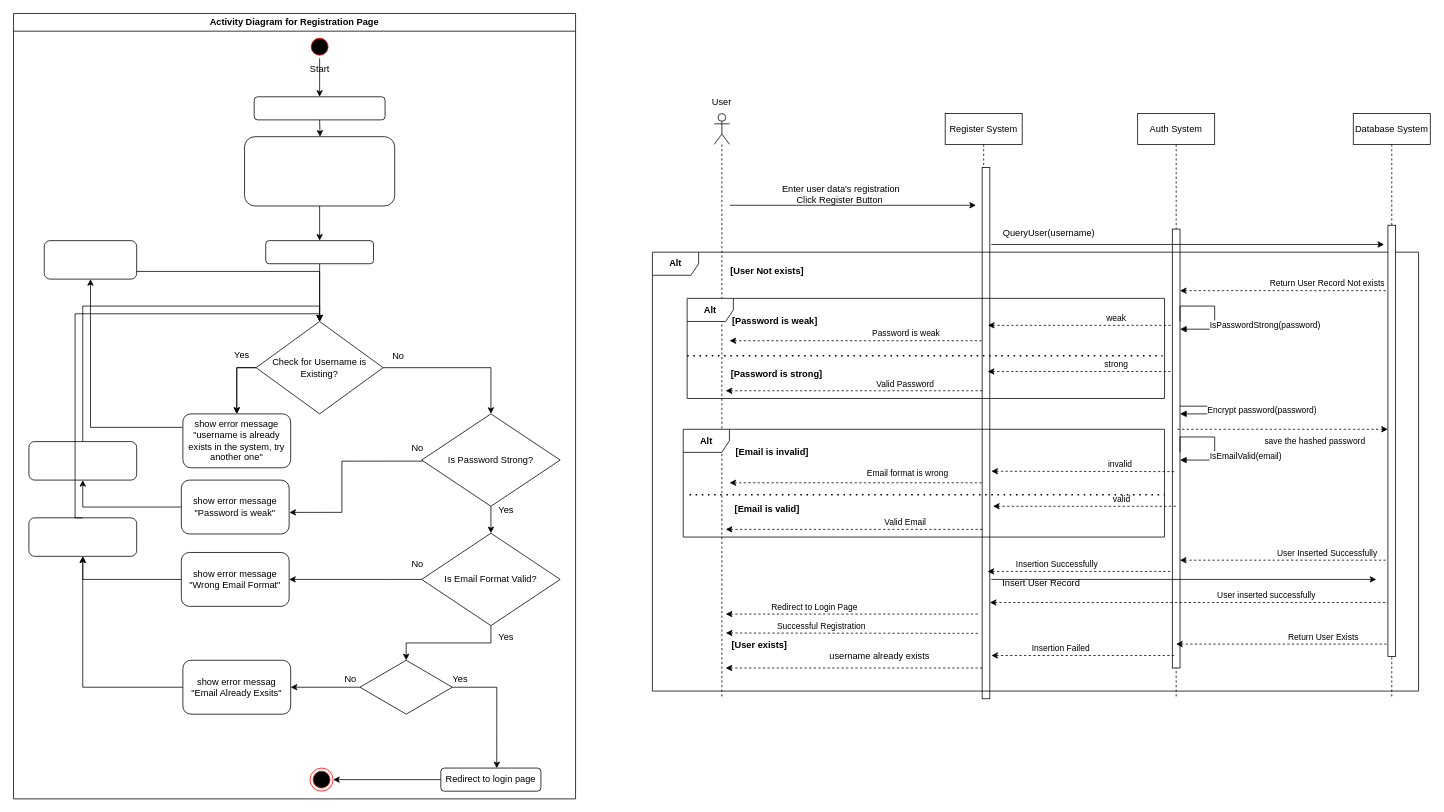
This 1444x812 diagram has some shape labels left out. Here are the shapes that lost their labels. From the top down, the centre of each, then its label:
point 319,108: User Opens Registration Page
point 319,171: Enter First Name Last name Birth_Date Email Username Password
point 90,259: Enter username Again
point 319,252: Click Register Button
point 82,460: Enter Password Again
point 82,536: Enter Email Again
point 405,687: Is Email Verified?
